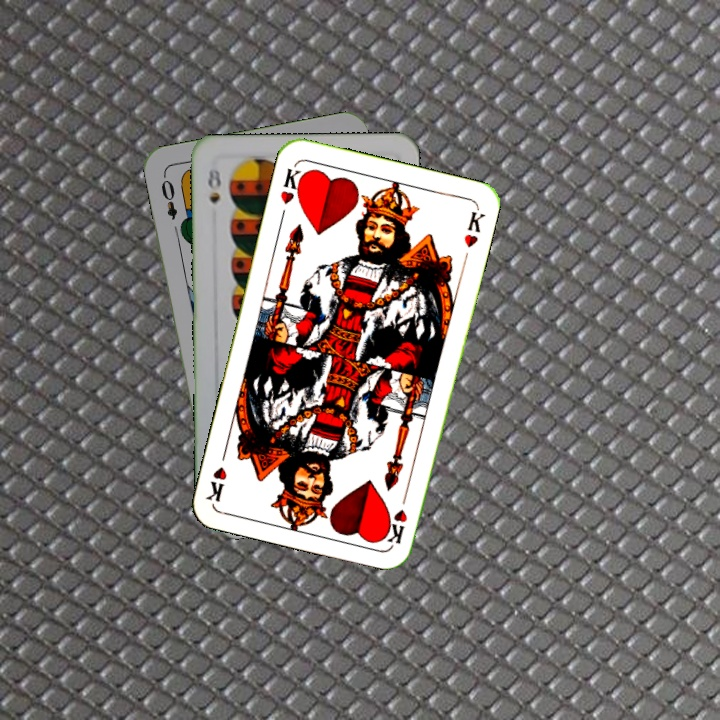EO: (157, 171, 180, 222)
HK: (276, 162, 308, 220), (382, 487, 411, 547)
S8: (203, 164, 224, 206)
